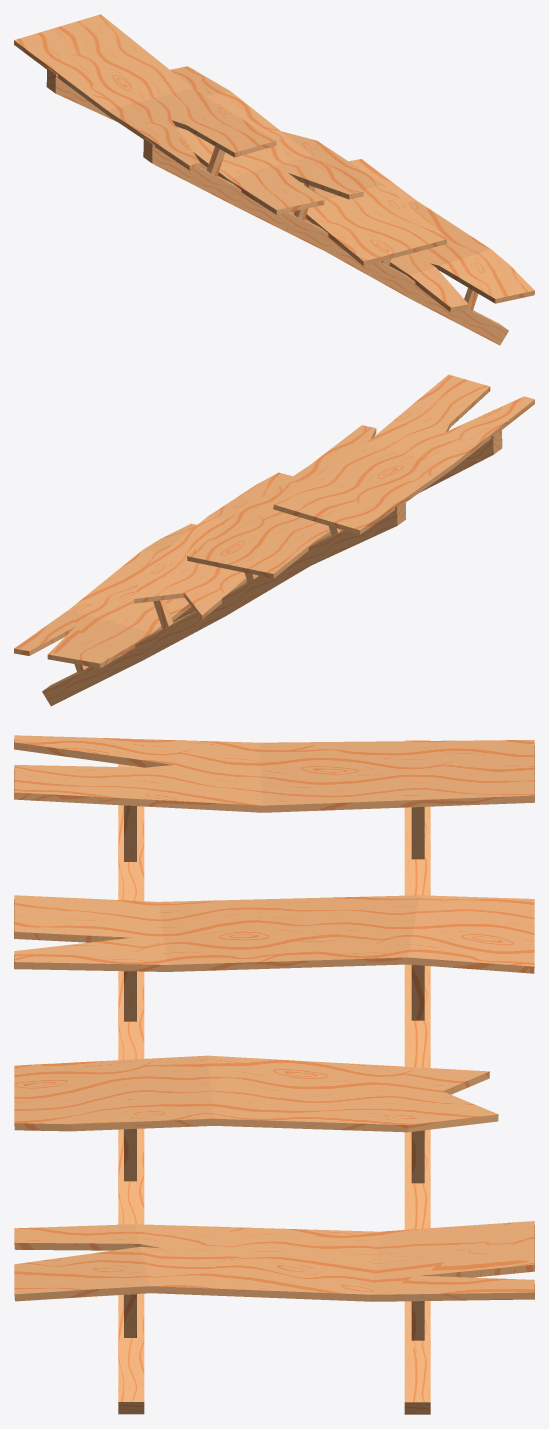
File: stairs.fbx
The picture shows the model from 3 angles, top to bottom: view 1: azimuth 30°, elevation 25°; view 2: azimuth 150°, elevation 25°; view 3: azimuth 270°, elevation 25°; orthographic projection. The views are drawn at different scales.
Visible parts, largest first — view 1: Cube.008; view 2: Cube.008; view 3: Cube.008.
Part boxes in pixels (<box>): Cube.008: <box>14,14,534,345</box>; Cube.008: <box>14,374,534,706</box>; Cube.008: <box>14,735,534,1414</box>.
Size of the model in its own units: 469 by 369 by 400.
